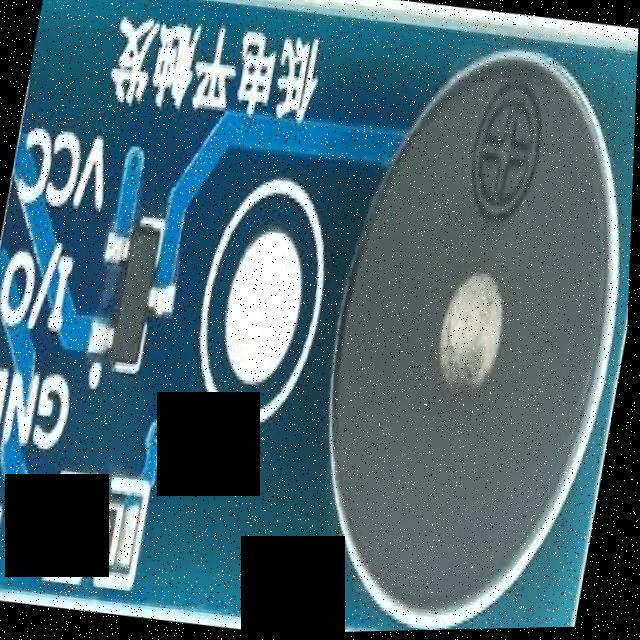4439: (93, 216, 183, 375)
buzzer: (282, 26, 639, 635)
resistor IR1: (53, 477, 139, 577)
